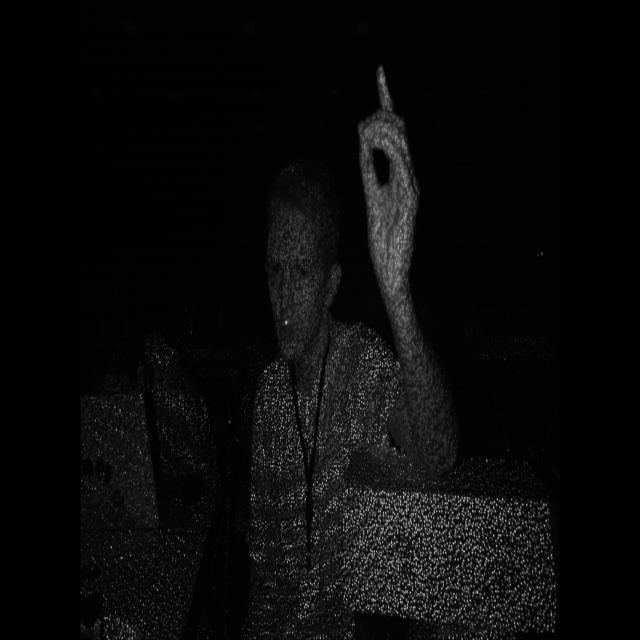D: (341, 30, 452, 313)
